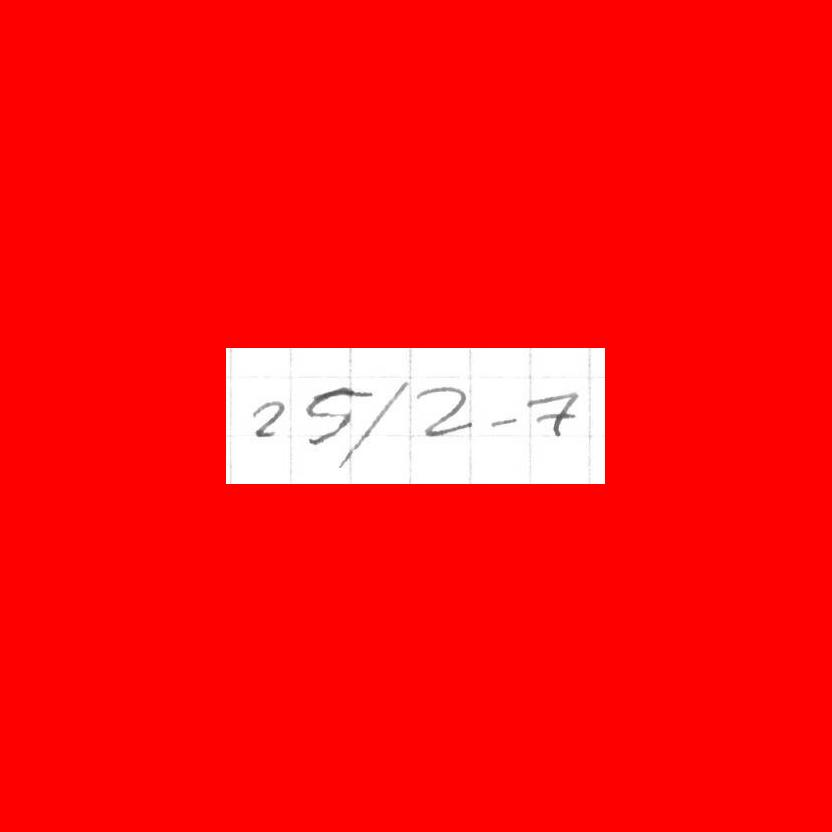Char: (305, 378, 377, 453), (351, 374, 410, 450), (413, 381, 480, 446), (524, 384, 579, 440), (245, 394, 286, 440), (488, 407, 527, 436)
